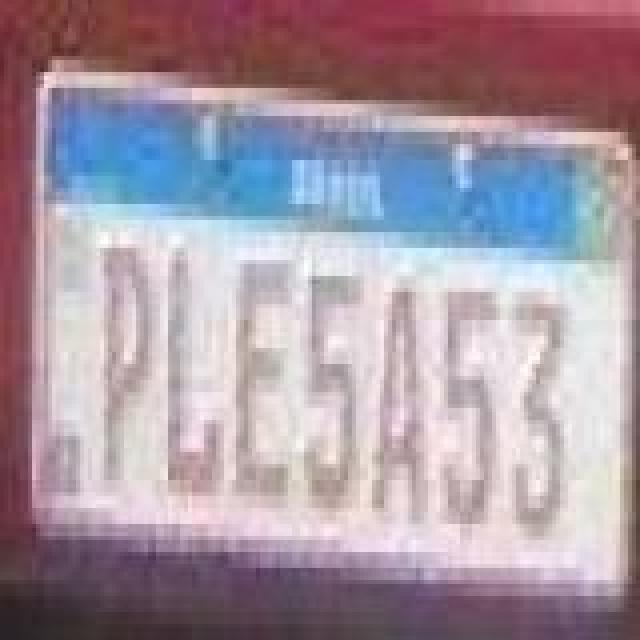3: (502, 284, 570, 548)
5: (436, 280, 500, 536), (298, 272, 366, 512)
A: (368, 284, 432, 532)
E: (230, 252, 298, 516)
L: (160, 236, 224, 500)
P: (94, 234, 154, 486)
